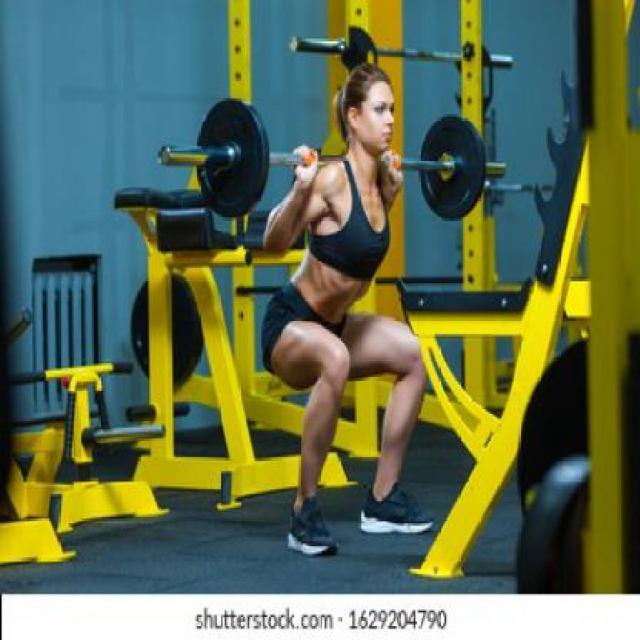barbell: (192, 89, 272, 228), (414, 100, 494, 229)
